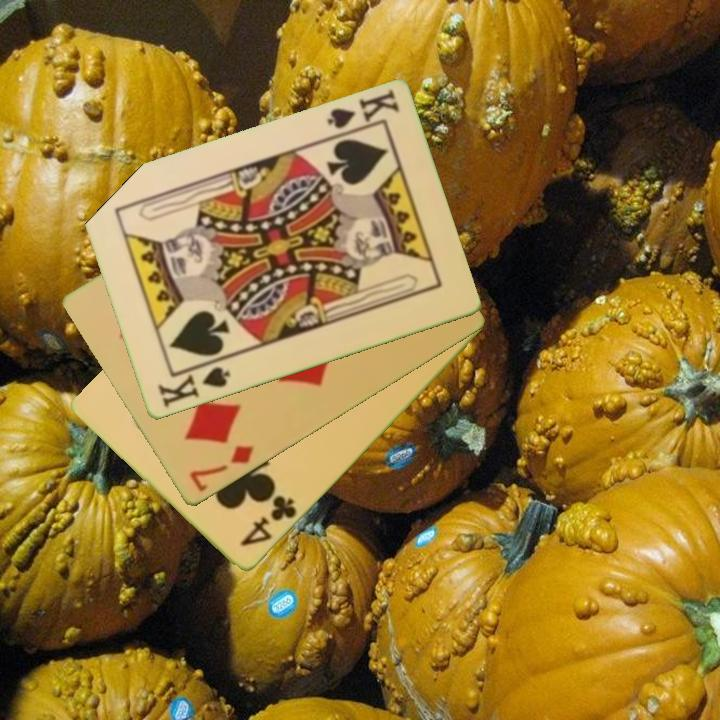4c: (237, 492, 300, 550)
7d: (185, 442, 257, 495)
Ks: (323, 86, 402, 141), (154, 357, 233, 411)
